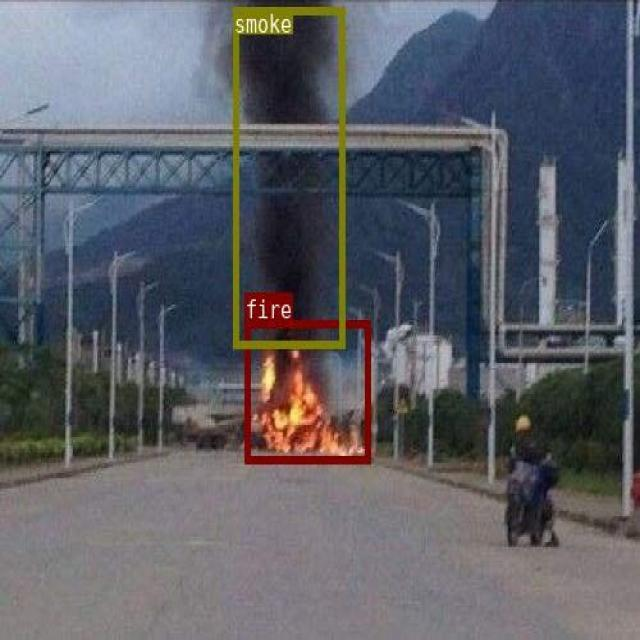fire: (243, 319, 369, 462)
smoke: (232, 7, 344, 347)
